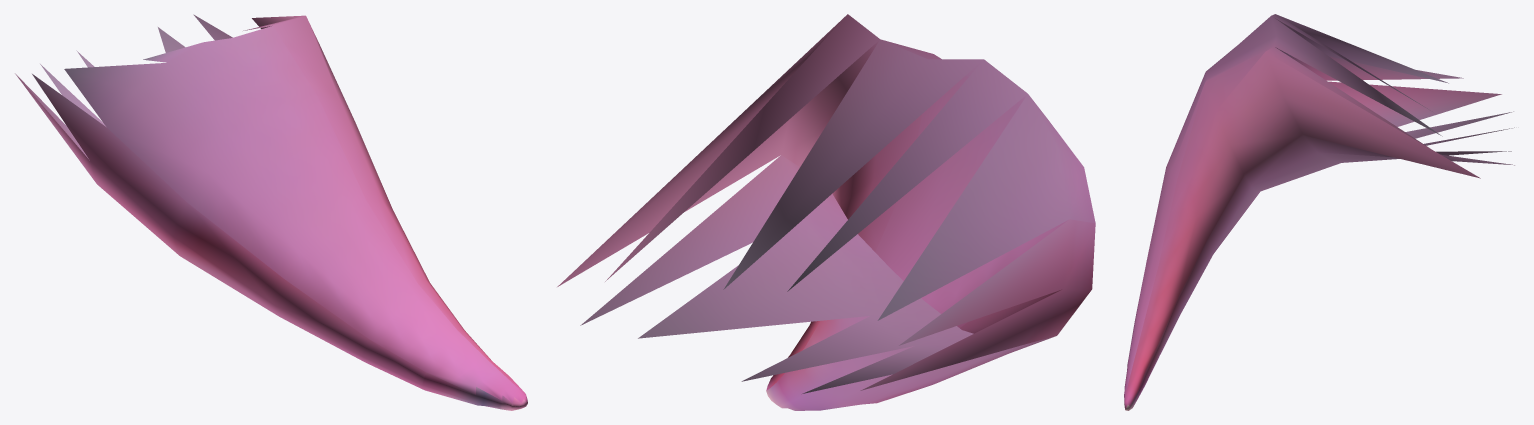
Rendered from Punta8.obj.
3 renders of one model, left to right at view 1: azimuth 30°, elevation 25°; view 2: azimuth 150°, elevation 25°; view 3: azimuth 270°, elevation 25°, orthographic. The views are drawn at different scales.
Visible parts, largest first — view 1: Punta8; view 2: Punta8; view 3: Punta8.
Part boxes in pixels (box(x1,y1,x2,y2)): Punta8: box(15, 14, 527, 410); Punta8: box(557, 14, 1095, 410); Punta8: box(1124, 14, 1514, 410).
Bounding box in the file's own units: 3.44 × 3.73 × 4.38.
